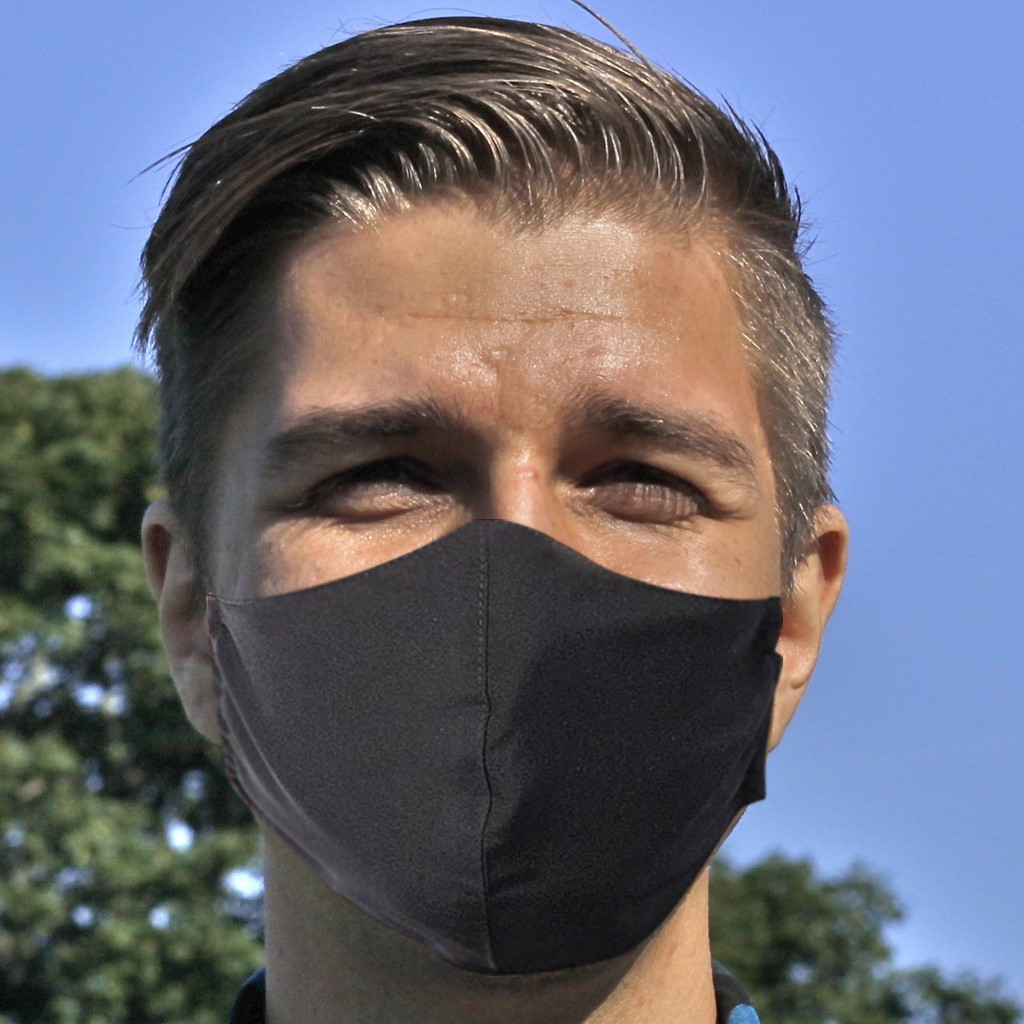con_mascara: (158, 113, 794, 956)
